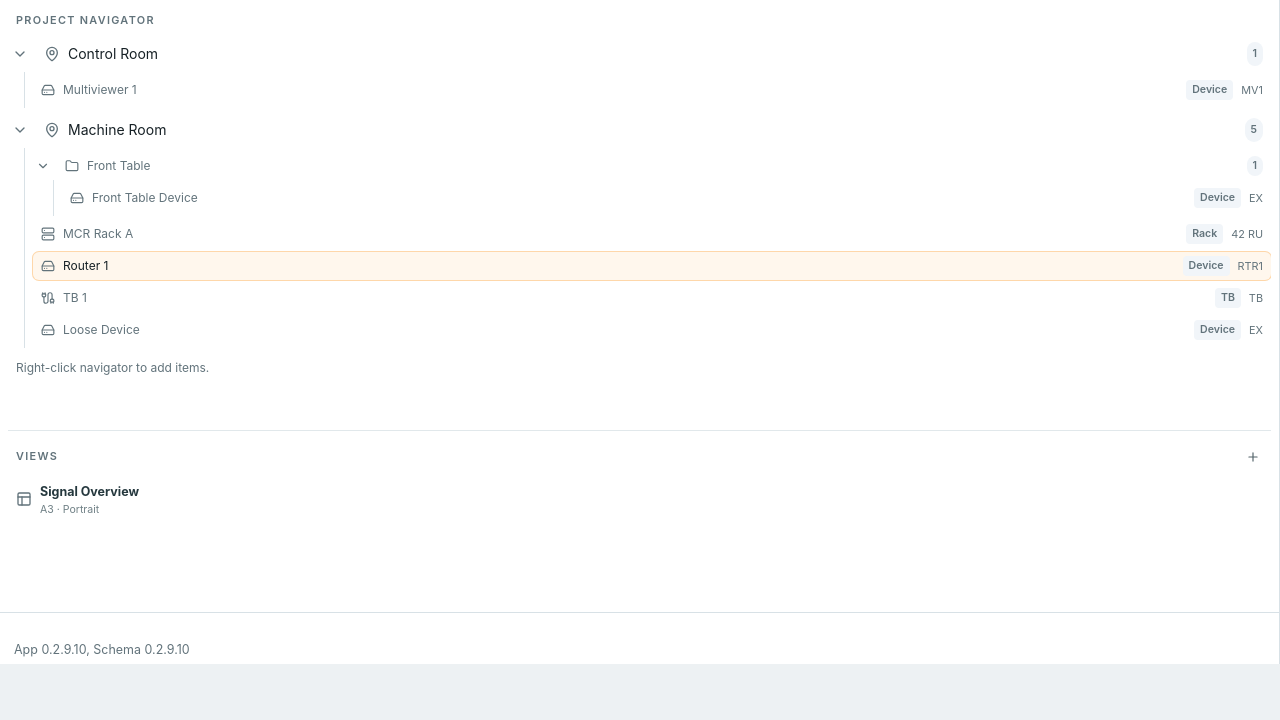
Test: LeftTree › tracks collapse and expand state per location and folder
This screenshot has width=1280, height=720.
Click the button named "Collapse Machine Room" at (20, 130), box [8,114,32,146]
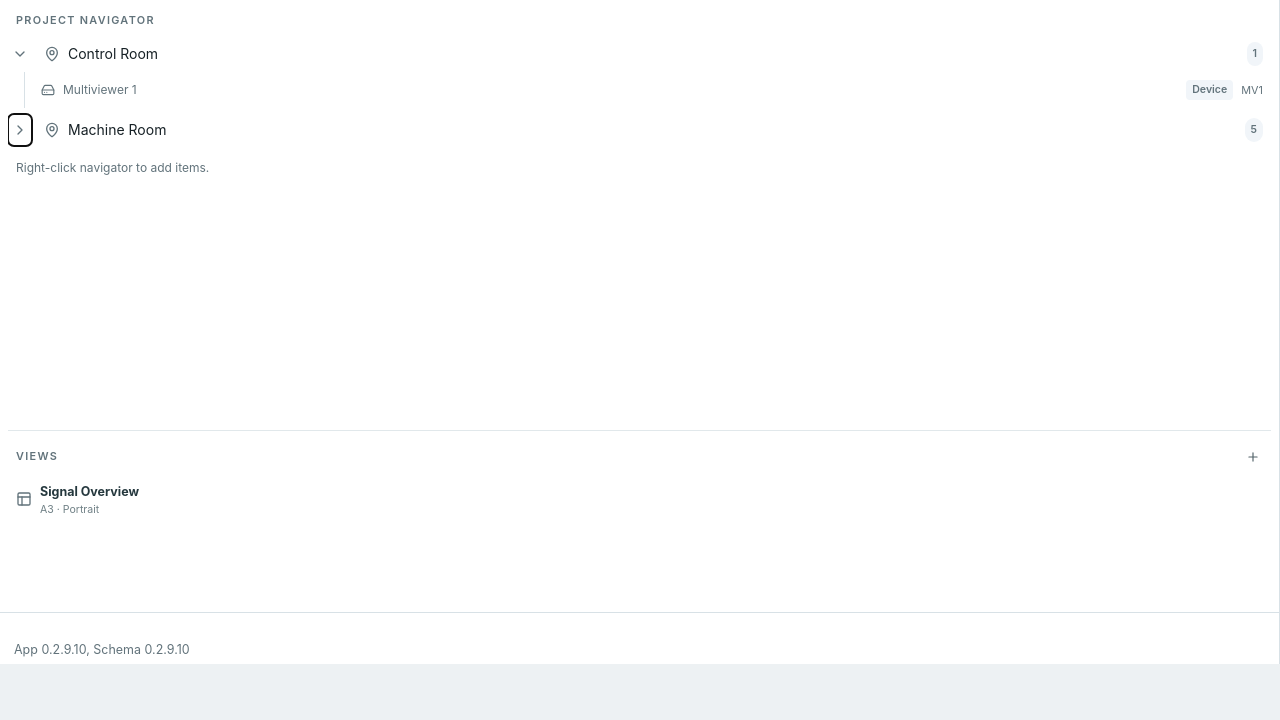
Now the button "MCR Rack A Rack 42 RU" is gone
Now the button named "Expand Machine Room" is shown
Click the button named "Expand Machine Room" at (20, 130), box [8,114,32,146]
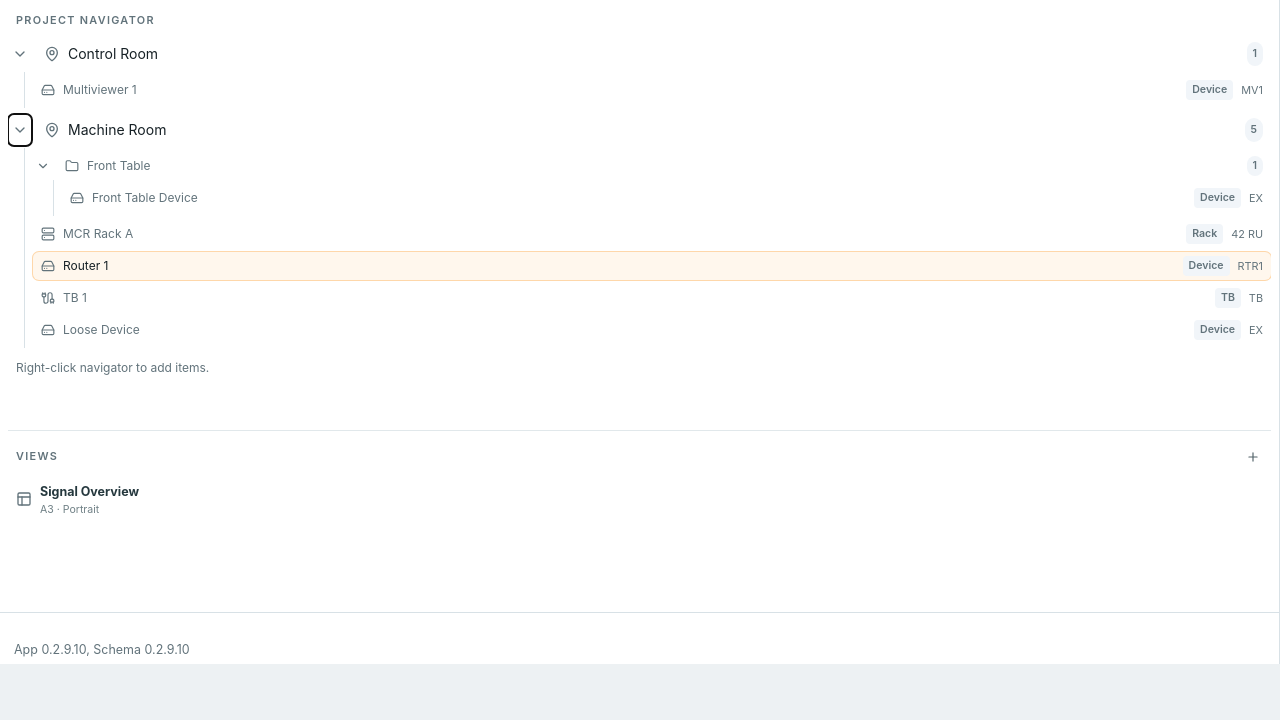
Click the button named "Collapse Front Table" at (43, 166), box [33,152,53,180]
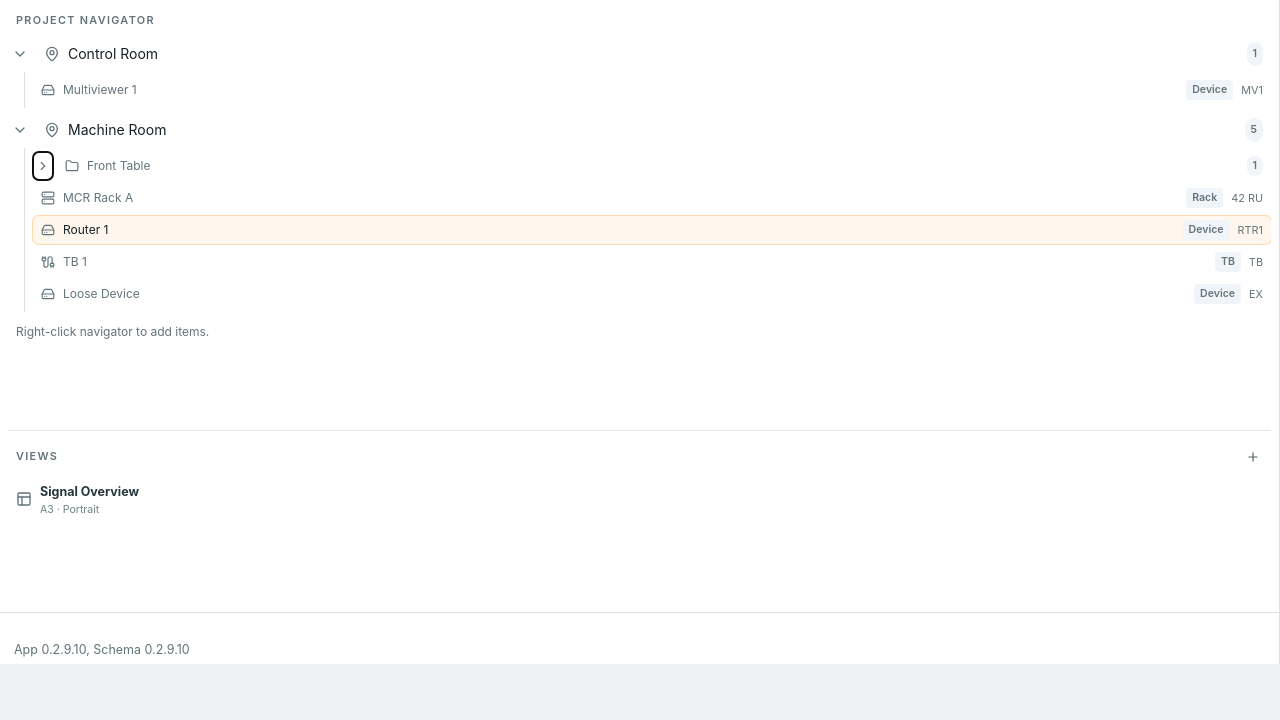
Now the button "Front Table Device Device EX" is gone
Now the button named "Expand Front Table" is shown, box [33,152,53,180]
